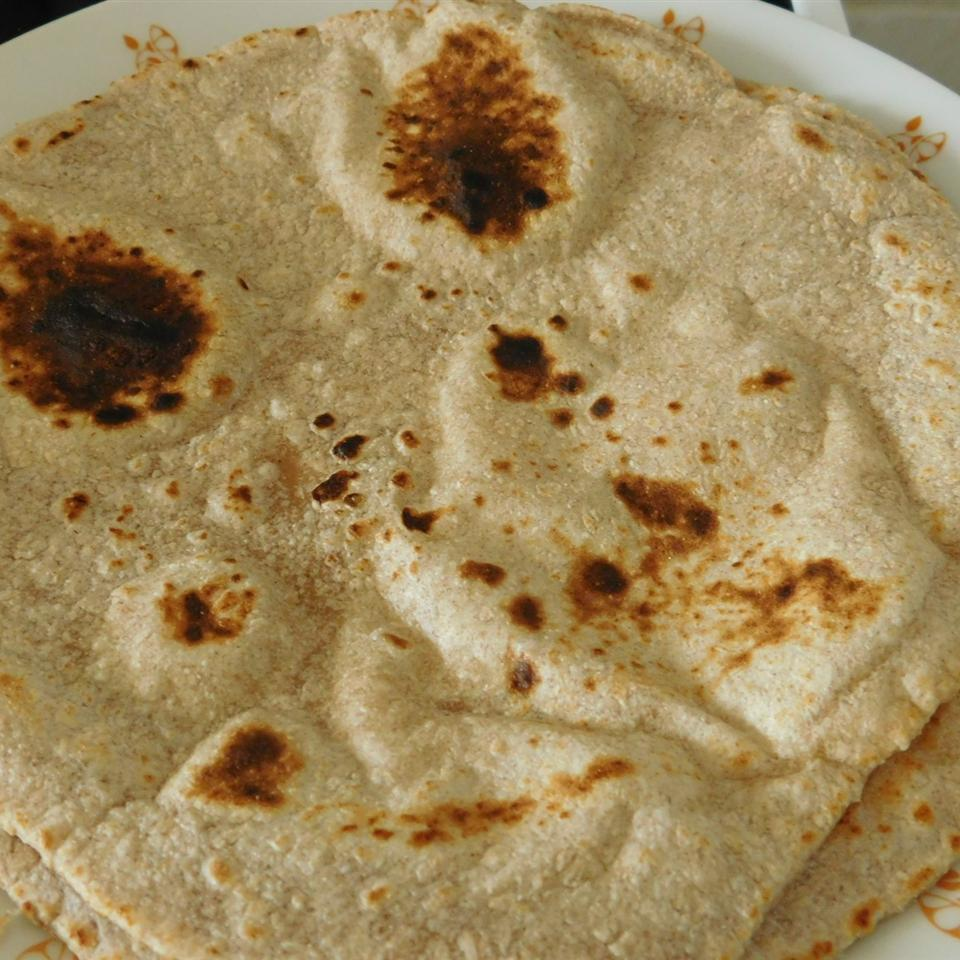roti: (0, 3, 960, 960)
